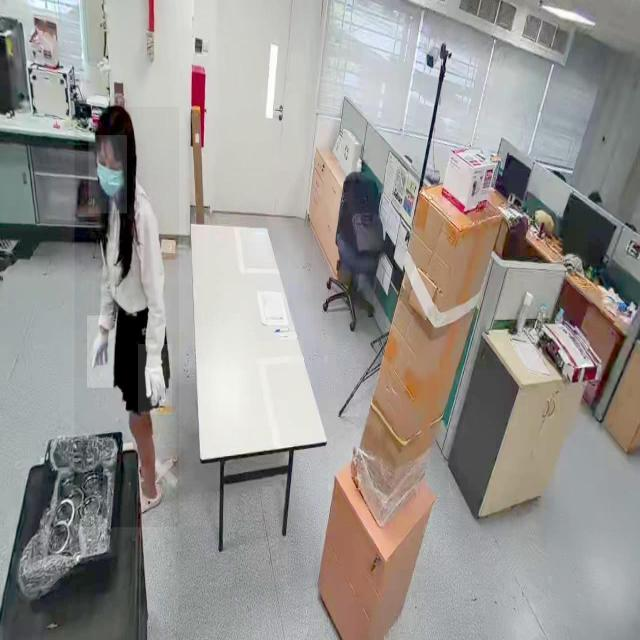face_mask: (89, 135, 127, 213)
hand_glove: (138, 344, 172, 415), (87, 316, 115, 388)
head_nohelmet: (95, 104, 135, 135)
person: (74, 107, 180, 528)
